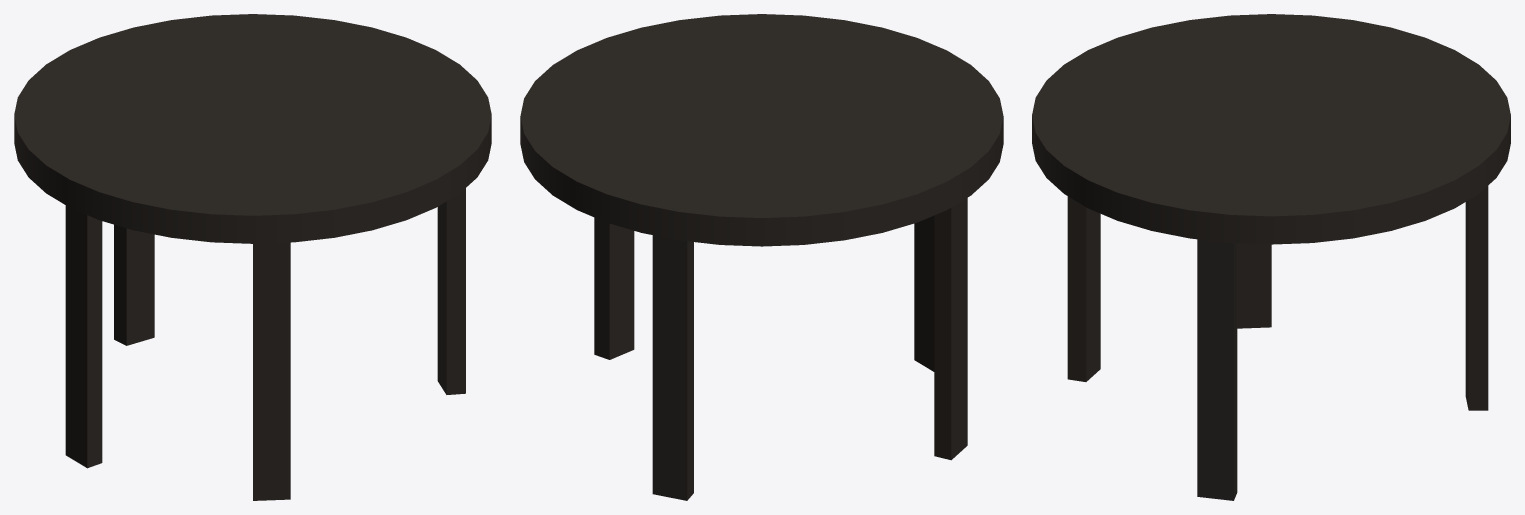
File: mesa.fbx
3 renders of one model, left to right at view 1: azimuth 30°, elevation 25°; view 2: azimuth 150°, elevation 25°; view 3: azimuth 270°, elevation 25°, orthographic.
Parts seen in each view (by area): view 1: mesa; view 2: mesa; view 3: mesa.
Boxes of the visible parts, x1,y1,x2,y2 form: mesa: [14, 14, 491, 500]; mesa: [520, 14, 1003, 500]; mesa: [1032, 14, 1510, 500].
Size of the model in its own units: 120 by 81.42 by 120.
1 material, 1 textured.
